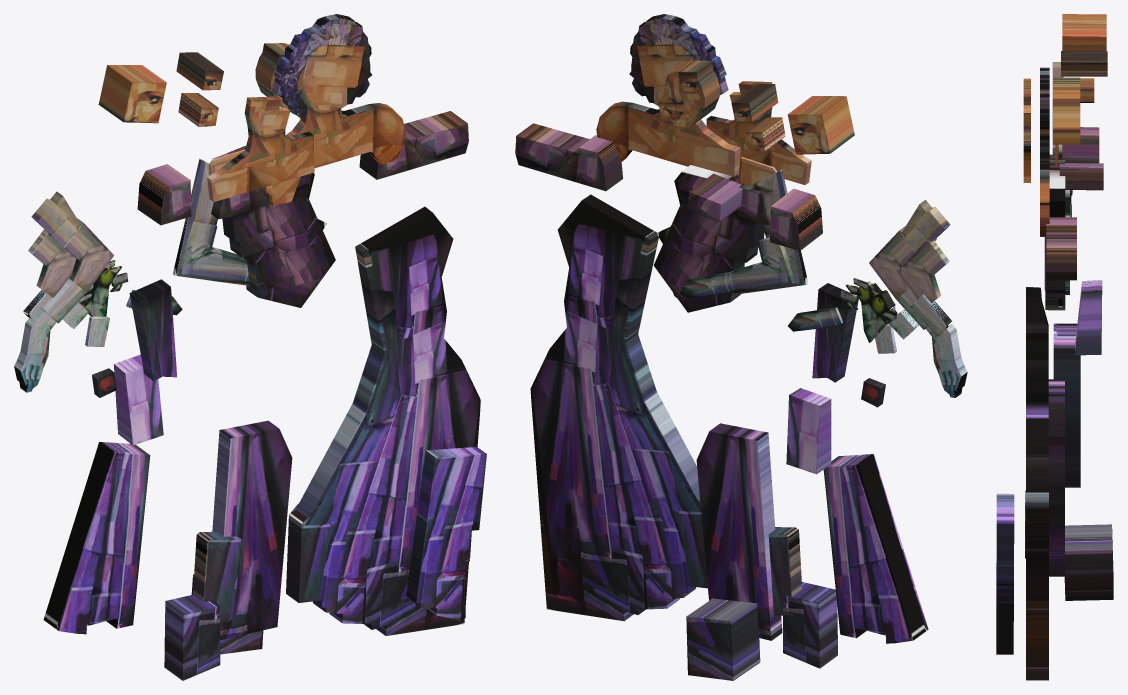
File: asset.glb
3 views of the same model, side by side, from view 1: azimuth 30°, elevation 25°; view 2: azimuth 150°, elevation 25°; view 3: azimuth 270°, elevation 25° (orthographic). The views are drawn at different scales.
Parts seen in each view (by area): view 1: Dress1, BezierCurve.001, Head1, Dress5, Dress3, Torso1, Larm1, Head2, Dress6, BezierCurve.005, Torso2-1, Dress4 (+10 smaller); view 2: Dress1, BezierCurve.001, Dress5, Head1, Torso1, Dress7, Larm1, Torso2-1, Dress6, Dress8, Head4, Head7 (+14 smaller); view 3: Dress1, Dress7, Dress5, BezierCurve.001, Dress3, Torso2-1, Head4, Dress8, Torso1, Head7, Head1, Head6 (+6 smaller).
Part boxes in pixels (<box>): Dress1: <box>286,206,480,635</box>; BezierCurve.001: <box>43,442,150,634</box>; Head1: <box>263,14,405,206</box>; Dress5: <box>212,420,292,640</box>; Dress3: <box>406,447,486,620</box>; Torso1: <box>211,173,335,307</box>; Larm1: <box>14,191,114,392</box>; Head2: <box>207,96,314,201</box>; Dress6: <box>164,594,220,680</box>; BezierCurve.005: <box>173,158,326,285</box>; Torso2-1: <box>359,111,468,179</box>; Dress4: <box>129,279,176,381</box>; Dress1: <box>530,194,707,621</box>; BezierCurve.001: <box>823,454,928,643</box>; Dress5: <box>696,423,782,640</box>; Head1: <box>596,14,740,176</box>; Torso1: <box>653,165,770,312</box>; Dress7: <box>686,598,760,680</box>; Larm1: <box>869,200,967,397</box>; Torso2-1: <box>515,123,623,191</box>; Dress6: <box>783,582,837,668</box>; Dress8: <box>786,388,831,474</box>; Head4: <box>658,60,720,129</box>; Head7: <box>787,96,854,154</box>; Dress1: <box>1026,287,1048,680</box>; Dress7: <box>1064,524,1113,600</box>; Dress5: <box>1048,379,1064,576</box>; BezierCurve.001: <box>1053,323,1080,487</box>; Dress3: <box>996,493,1014,654</box>; Torso2-1: <box>1046,217,1076,280</box>; Head4: <box>1053,77,1080,144</box>; Dress8: <box>1075,280,1102,355</box>; Torso1: <box>1045,154,1065,310</box>; Head7: <box>1062,14,1106,51</box>; Head1: <box>1040,67,1049,236</box>; Head6: <box>1061,51,1107,76</box>.
Bounding box in the file's own units: 3.47 × 4.68 × 0.8963.
35 materials, 35 textured.
